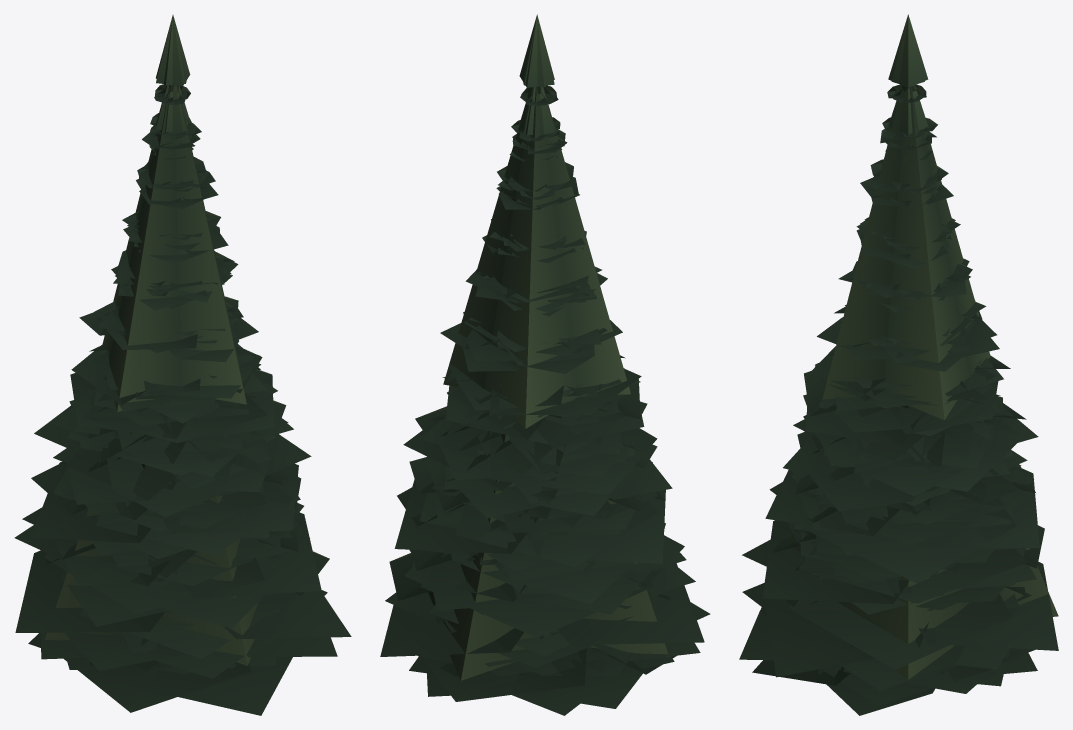
Rendered from trees.glb.
3 renders of one model, left to right at view 1: azimuth 30°, elevation 25°; view 2: azimuth 150°, elevation 25°; view 3: azimuth 270°, elevation 25°, orthographic. The views are drawn at different scales.
Parts seen in each view (by area): view 1: m2, t2, far, m1, t1, t0, m0; view 2: m2, far, t2, m1, t1, m0, t0; view 3: m2, far, t2, m1, t1, t0, m0.
Boxes of the visible parts, x1,y1,x2,y2 form: m2: (15, 266, 351, 715); t2: (22, 191, 337, 678); far: (45, 85, 257, 665); m1: (43, 85, 321, 666); t1: (14, 91, 303, 670); t0: (61, 15, 298, 612); m0: (71, 15, 262, 490); m2: (380, 203, 704, 708); far: (428, 86, 668, 680); t2: (409, 236, 710, 715); m1: (409, 87, 684, 675); t1: (385, 92, 686, 676); m0: (444, 14, 641, 556); t0: (404, 16, 673, 614); m2: (752, 261, 1058, 705); far: (761, 87, 1058, 679); t2: (739, 217, 1038, 715); m1: (762, 85, 1044, 604); t1: (787, 91, 1033, 681); t0: (791, 14, 1021, 609); m0: (818, 15, 1010, 493).
Size of the model in its own units: 7.23 by 14.5 by 6.37.
